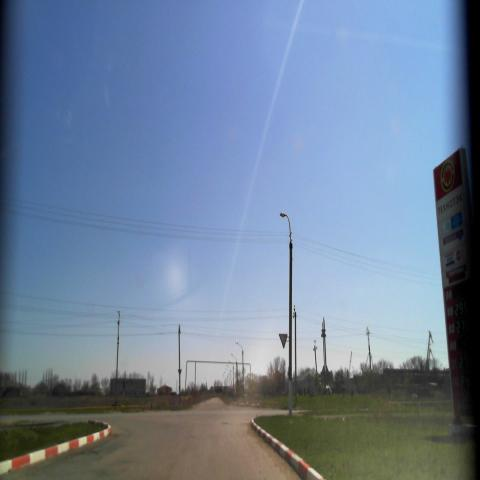2_4: (278, 331, 288, 350)
